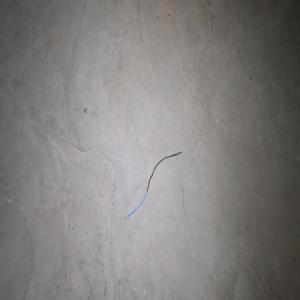Wire: (123, 150, 182, 220)
